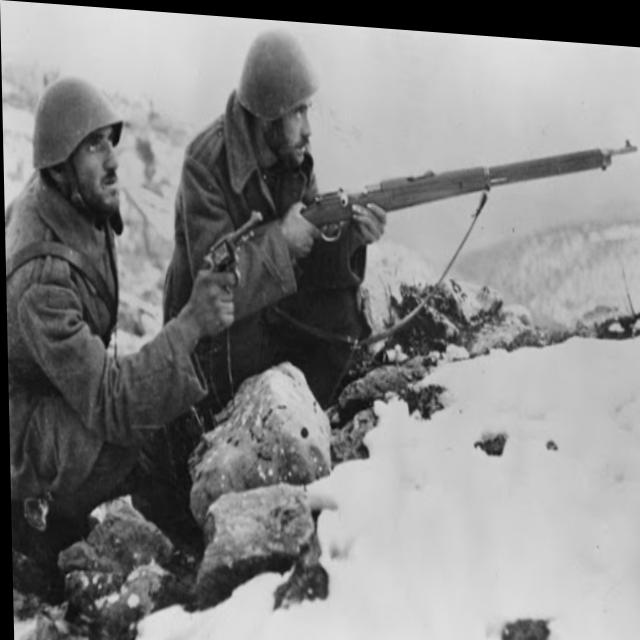other: (1, 52, 215, 572)
